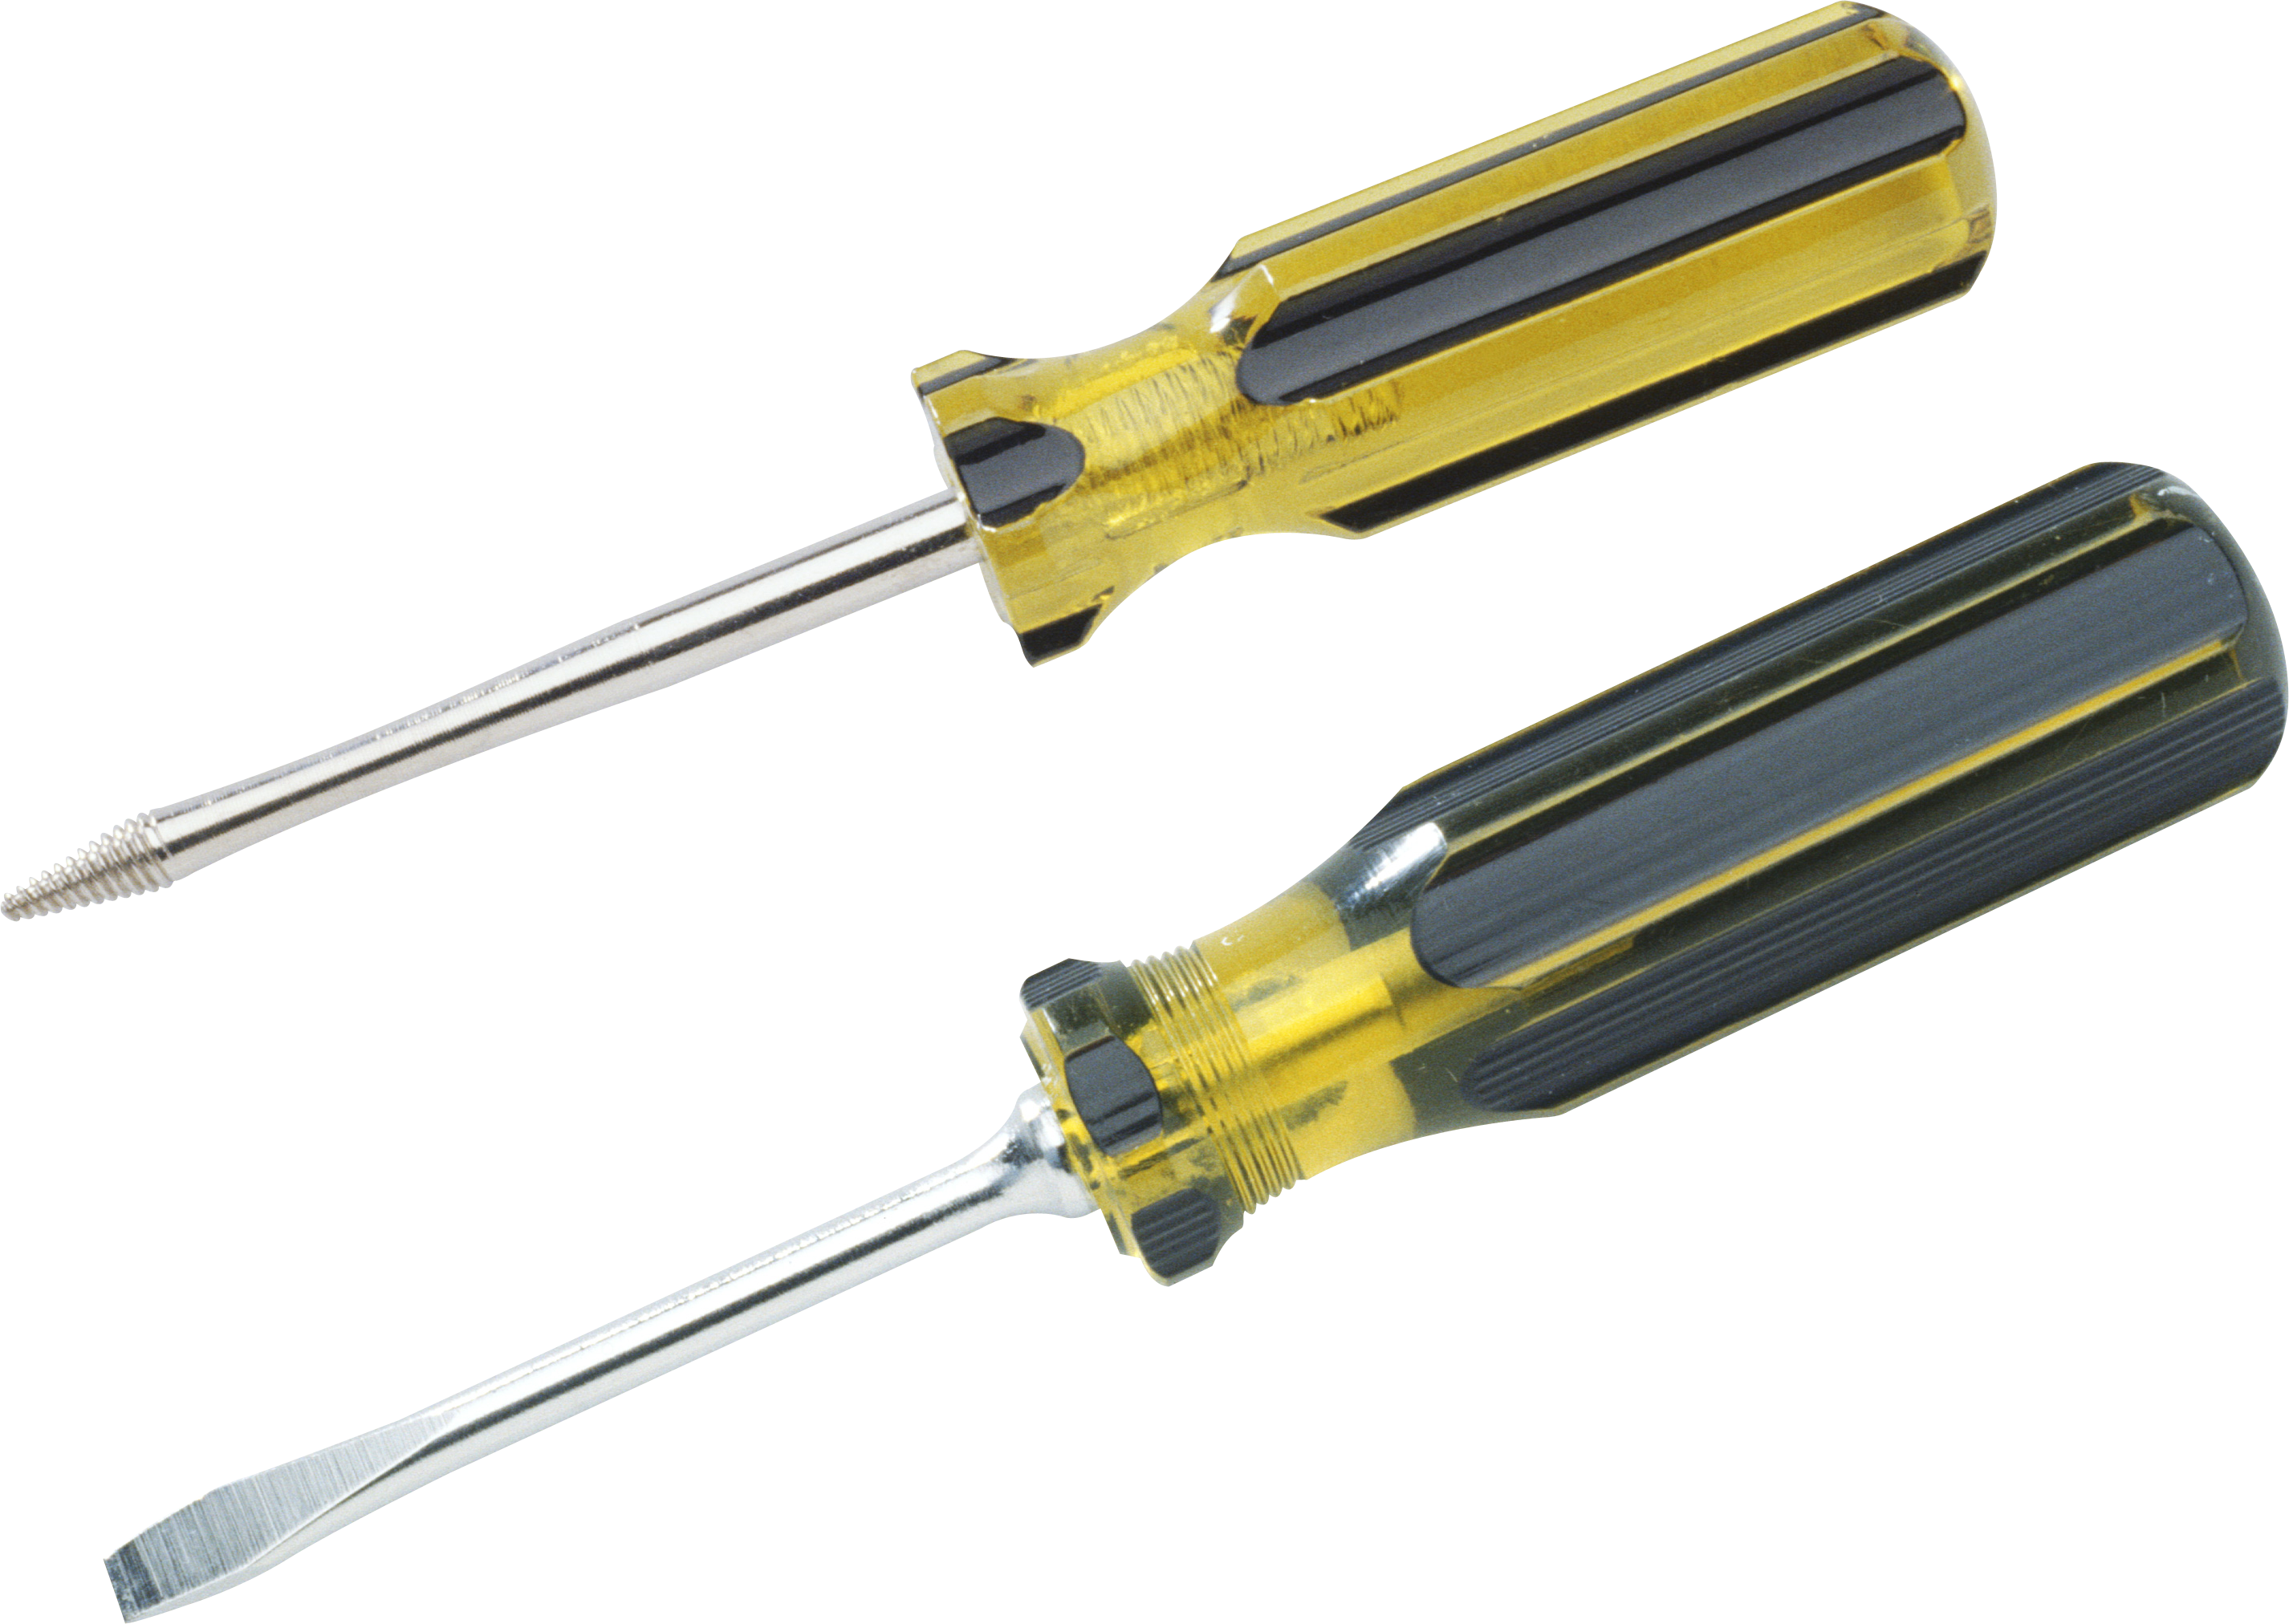screwdriver: (100, 468, 2289, 1619), (4, 0, 2009, 926)
